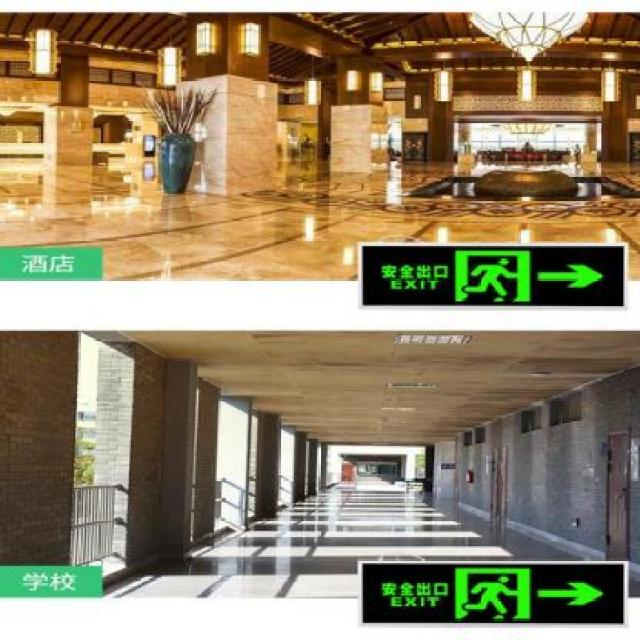exit_sign: (360, 549, 628, 631), (363, 237, 632, 312)
